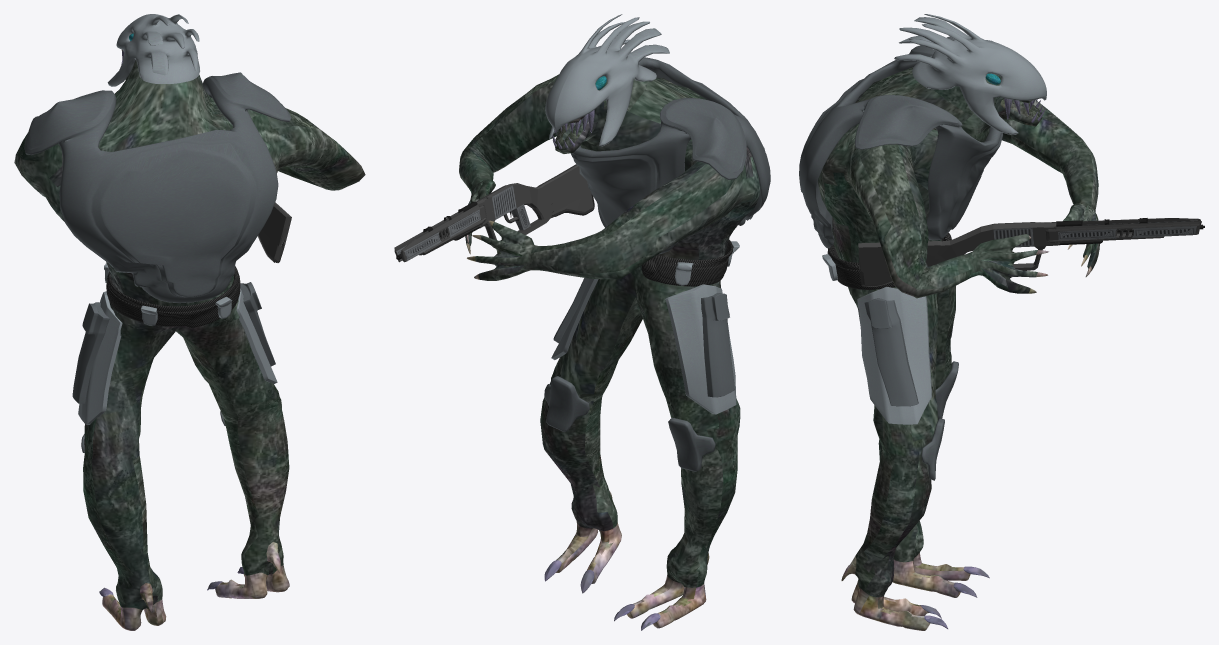
The model's file is AndarEscopeta.0023.obj.
3 renders of one model, left to right at view 1: azimuth 30°, elevation 25°; view 2: azimuth 150°, elevation 25°; view 3: azimuth 270°, elevation 25°, orthographic.
Visible parts, largest first — view 1: polySurface244, escopeta:Cylinder001 polySurface244; view 2: polySurface244, escopeta:Cylinder001 polySurface244; view 3: polySurface244, escopeta:Cylinder001 polySurface244.
Boxes of the visible parts, <box> form: polySurface244: <box>14,14,365,630</box>; escopeta:Cylinder001 polySurface244: <box>258,202,291,262</box>; polySurface244: <box>459,14,770,630</box>; escopeta:Cylinder001 polySurface244: <box>394,164,594,262</box>; polySurface244: <box>799,14,1099,630</box>; escopeta:Cylinder001 polySurface244: <box>858,218,1204,286</box>.
Size of the model in its own units: 1.38 by 2.54 by 1.59.
Materials: 10 (8 with a texture image).
